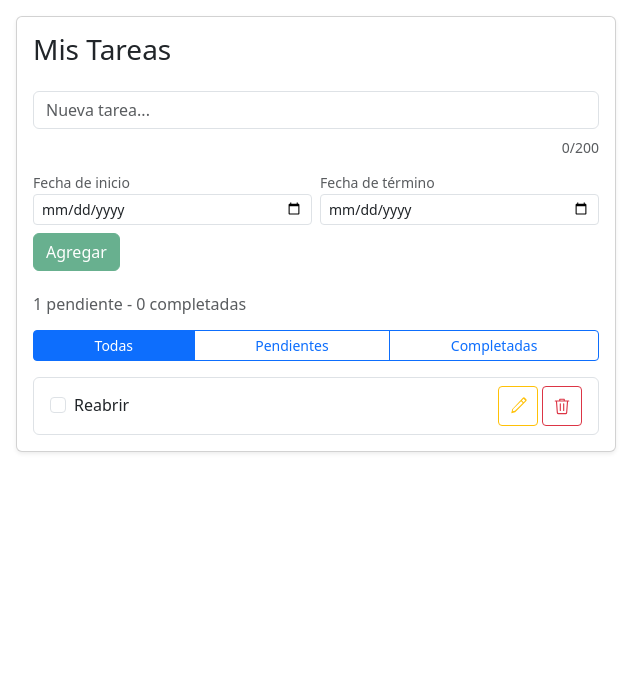
Test case: clears completed feedback when a task is marked pending again
Click the checkbox labelled "Reabrir": (58, 405) [50, 397, 66, 413]
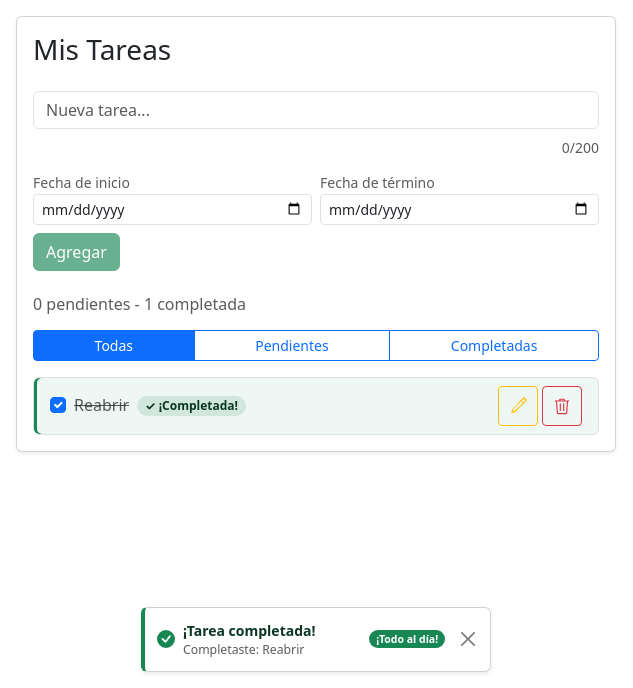
Expected: the text "¡Completada!" is shown, [159, 397, 238, 414]
Click the checkbox labelled "Reabrir": (58, 405) [50, 397, 66, 413]
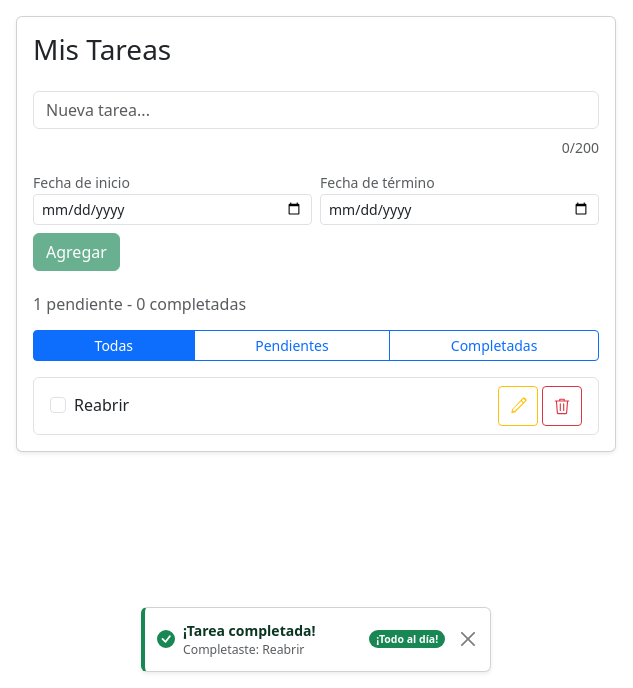
Expected: the text "¡Completada!" is gone
